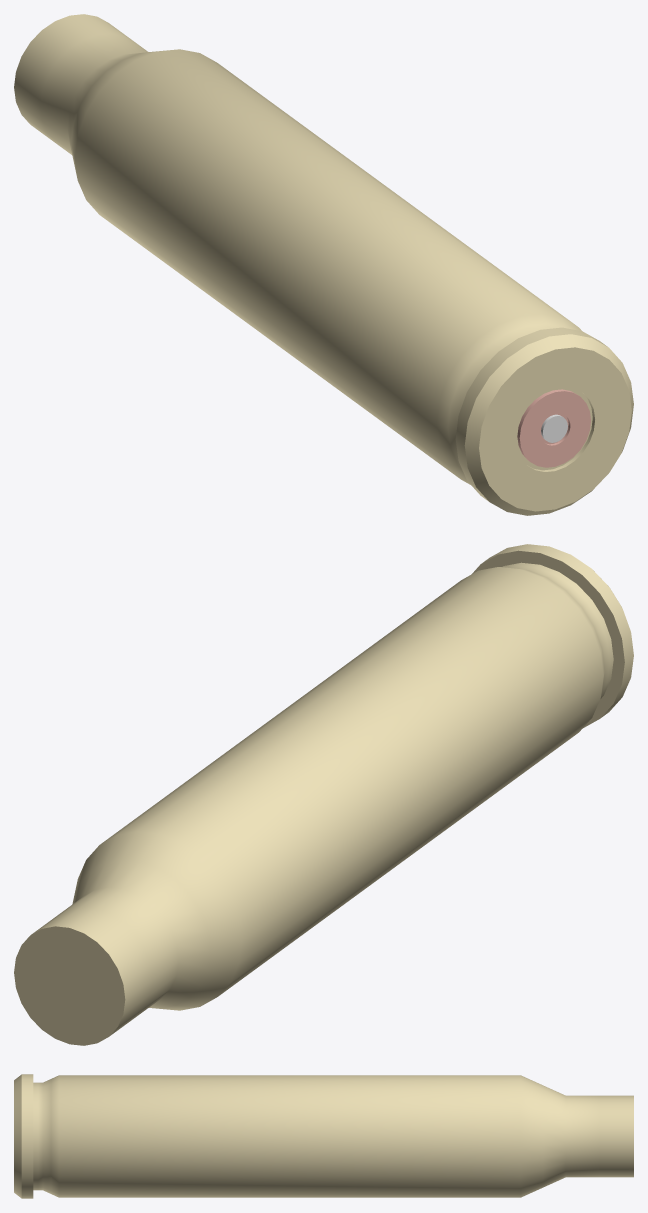
Rendered from SM_223Case.fbx.
The picture shows the model from 3 angles, top to bottom: view 1: azimuth 30°, elevation 25°; view 2: azimuth 150°, elevation 25°; view 3: azimuth 270°, elevation 25°; orthographic projection. The views are drawn at different scales.
Visible parts, largest first — view 1: Cylinder; view 2: Cylinder; view 3: Cylinder.
Boxes of the visible parts, x1=… form: Cylinder: x1=14, y1=14, x2=633, y2=515; Cylinder: x1=14, y1=544, x2=633, y2=1045; Cylinder: x1=14, y1=1074, x2=633, y2=1198.
Size of the model in its own units: 0.8988 by 4.47 by 0.8988.
